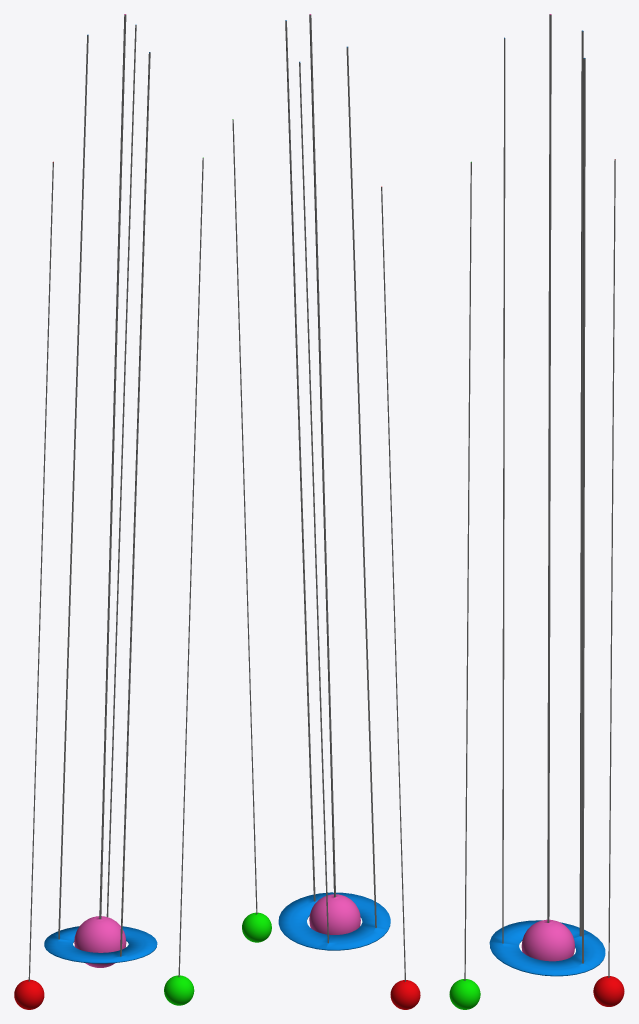
Rendered from Planet3.fbx.
3 views of the same model, side by side, from view 1: azimuth 30°, elevation 25°; view 2: azimuth 210°, elevation 25°; view 3: azimuth 270°, elevation 25° (orthographic). The views are drawn at different scales.
Parts seen in each view (by area): view 1: Cylinder.014; view 2: Cylinder.014; view 3: Cylinder.014.
Boxes of the visible parts, <box> form: Cylinder.014: <box>14,14,203,1009</box>; Cylinder.014: <box>232,14,420,1009</box>; Cylinder.014: <box>449,14,624,1009</box>.
Size of the model in its own units: 16149 by 127779 by 19779.
